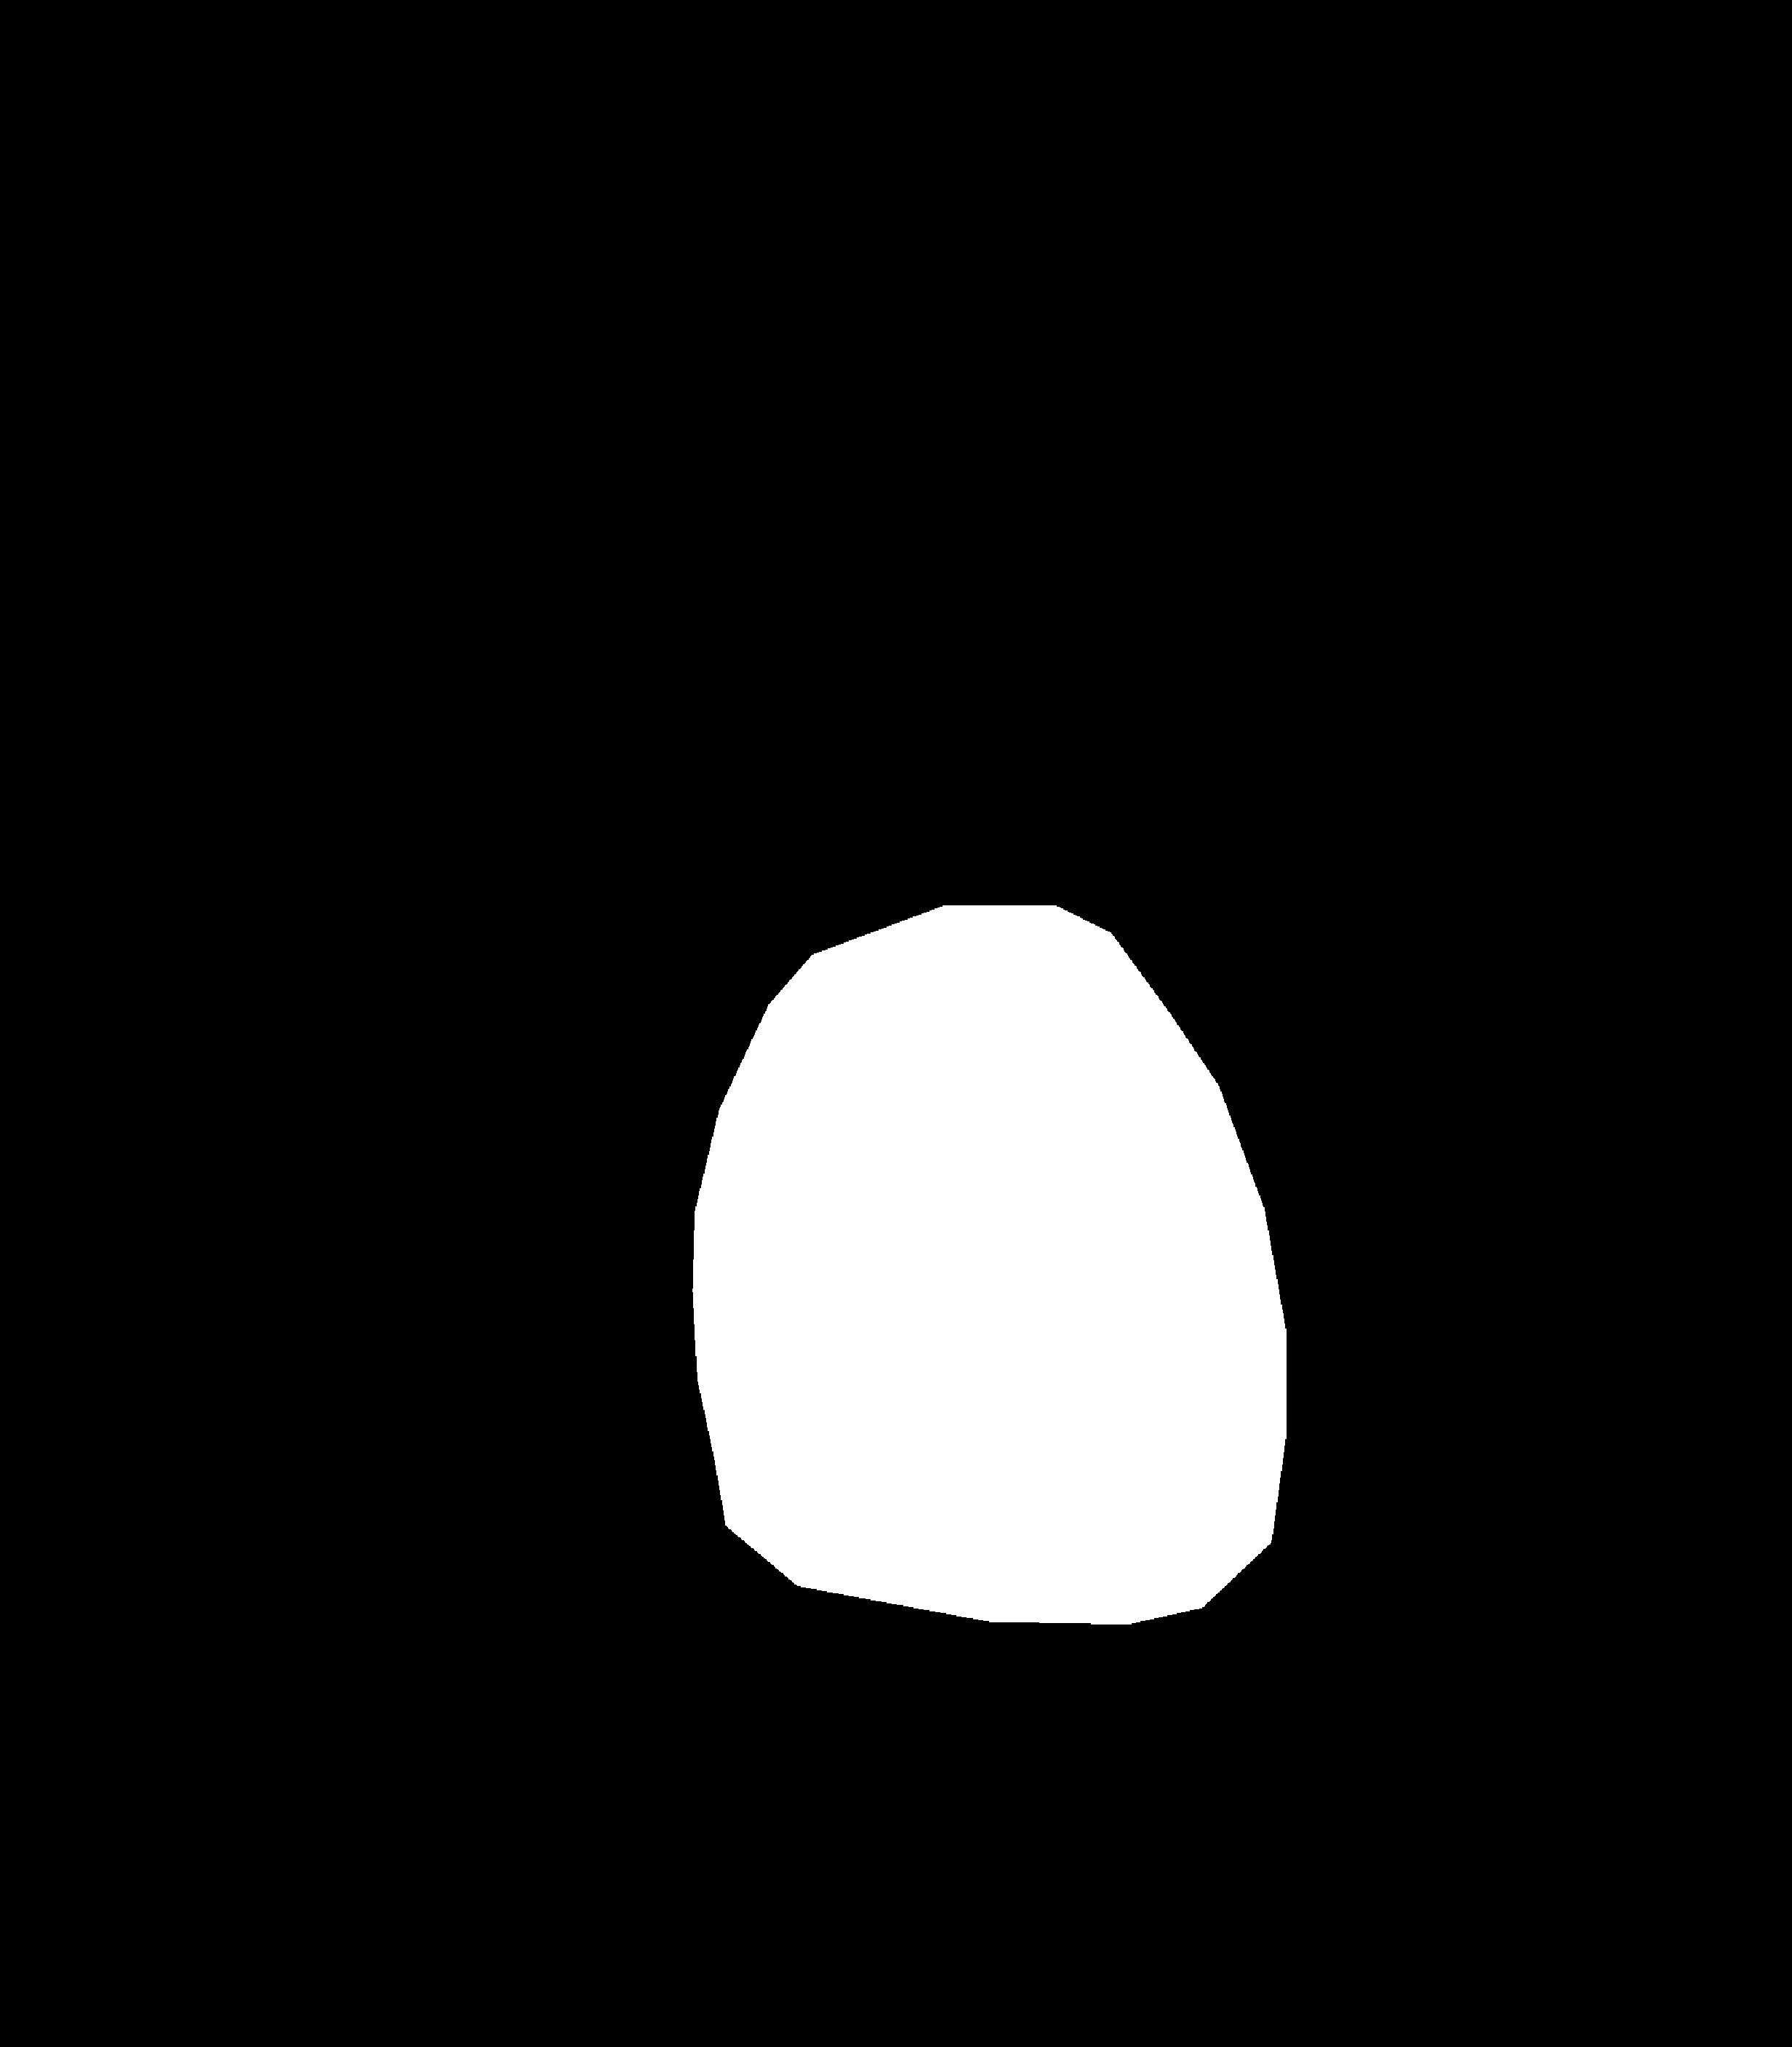heart: (688, 1006, 1287, 1732)
left_lung: (136, 275, 817, 1856)
right_lung: (1021, 322, 1597, 1873)
